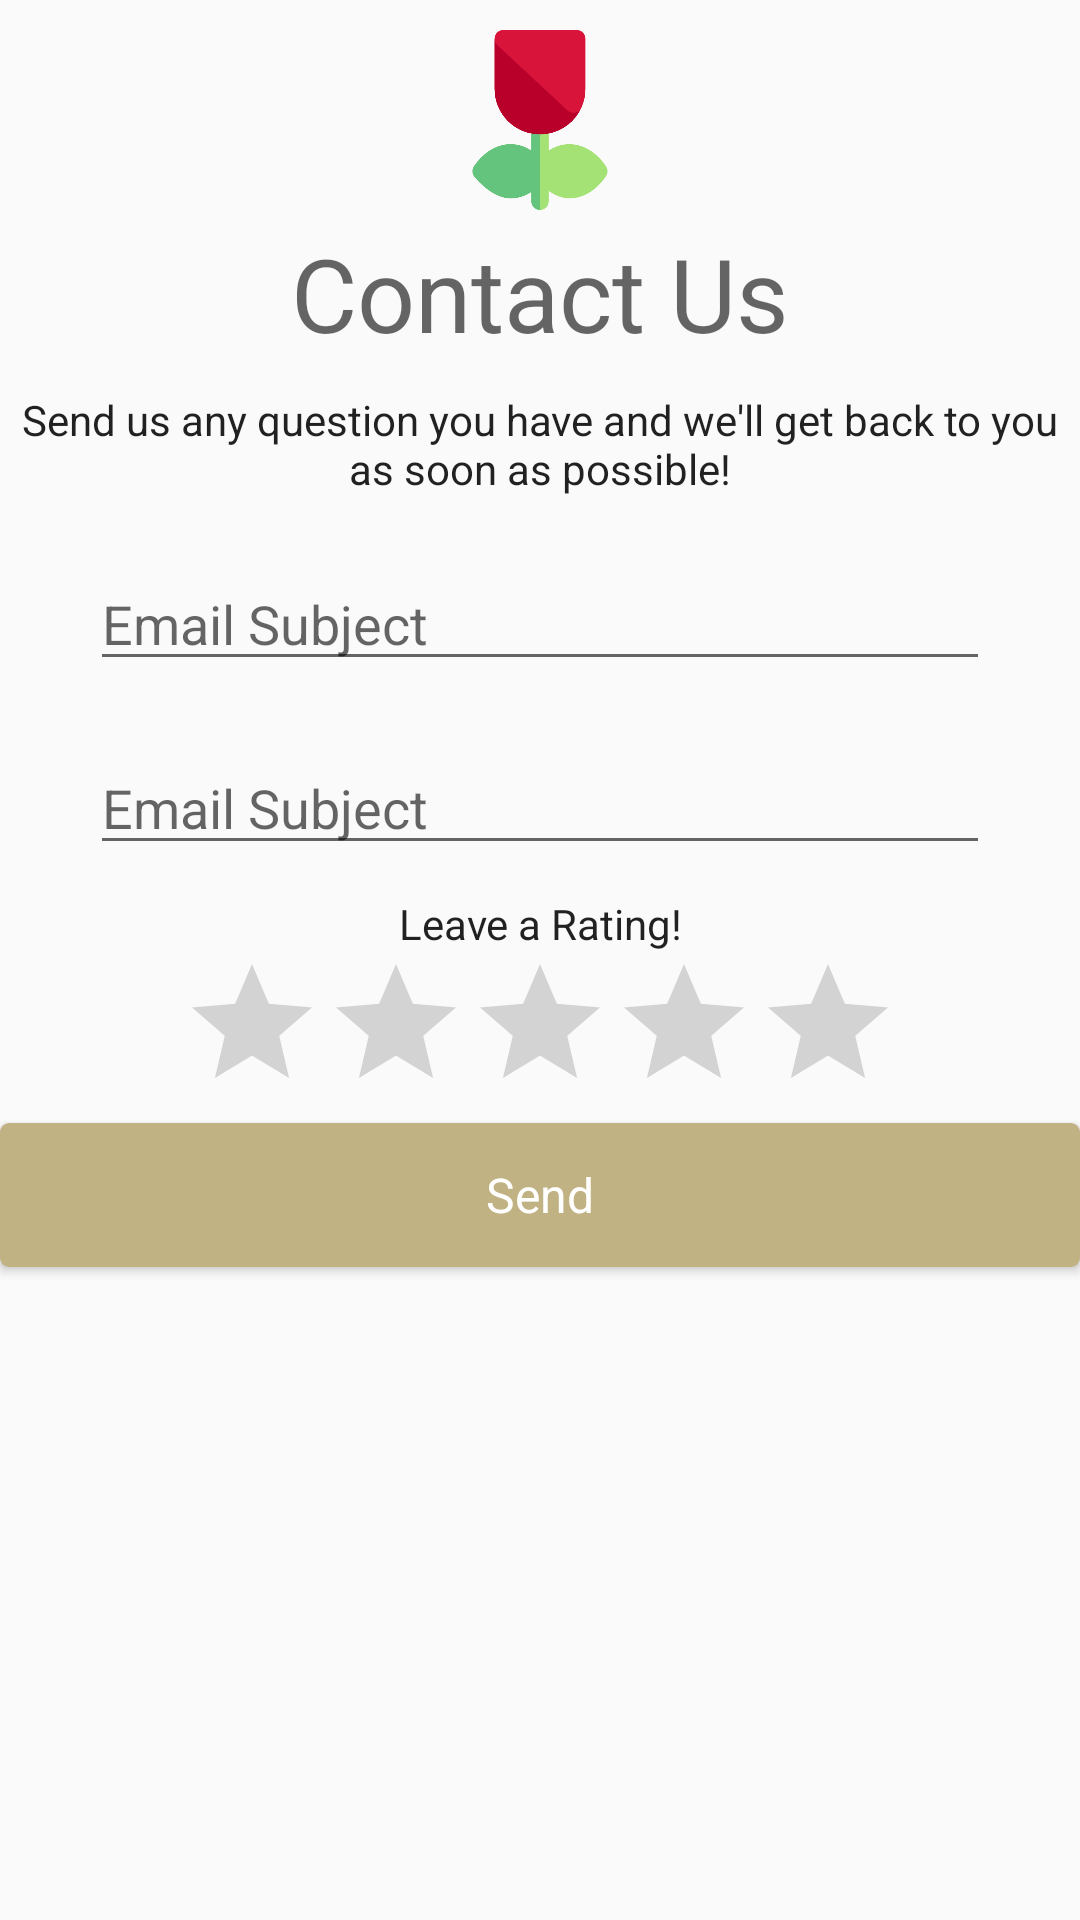

Icon click points for this 1080px×1920px phone screenshot, format (x=x, y=y):
tulip: (x=540, y=120)
